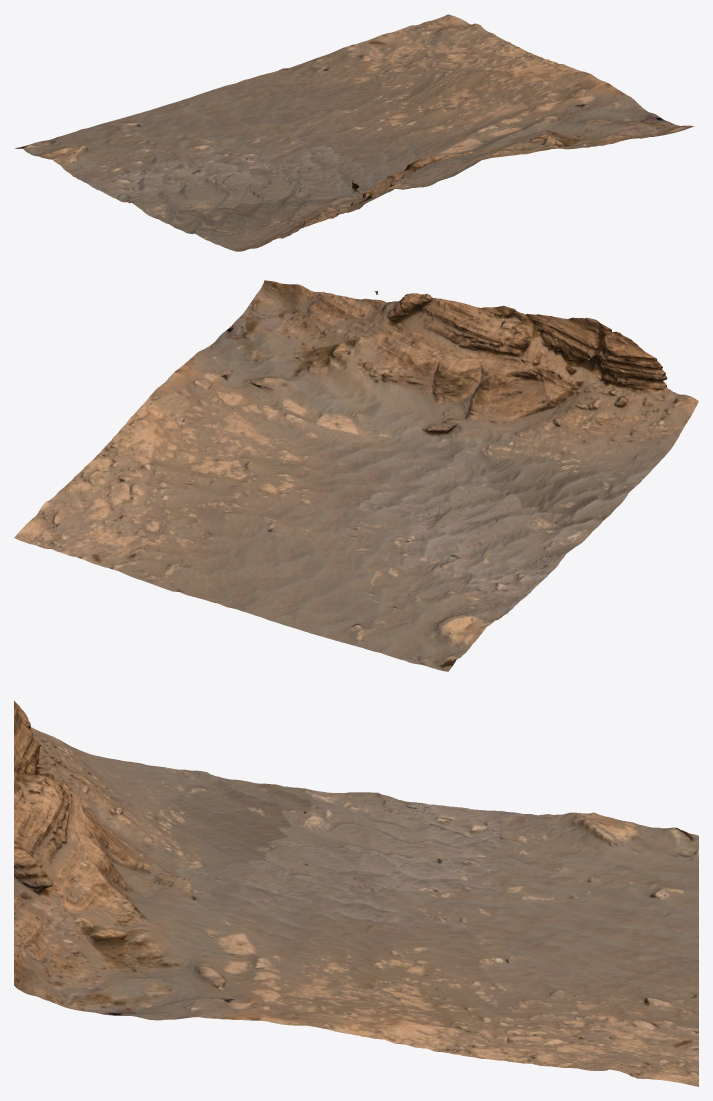
3 renders of one model, top to bottom at view 1: azimuth 30°, elevation 25°; view 2: azimuth 150°, elevation 25°; view 3: azimuth 270°, elevation 25°, orthographic. The views are drawn at different scales.
Bounding box in the file's own units: 16.71 × 5.3 × 16.71.
Materials: 3 (3 with a texture image).
